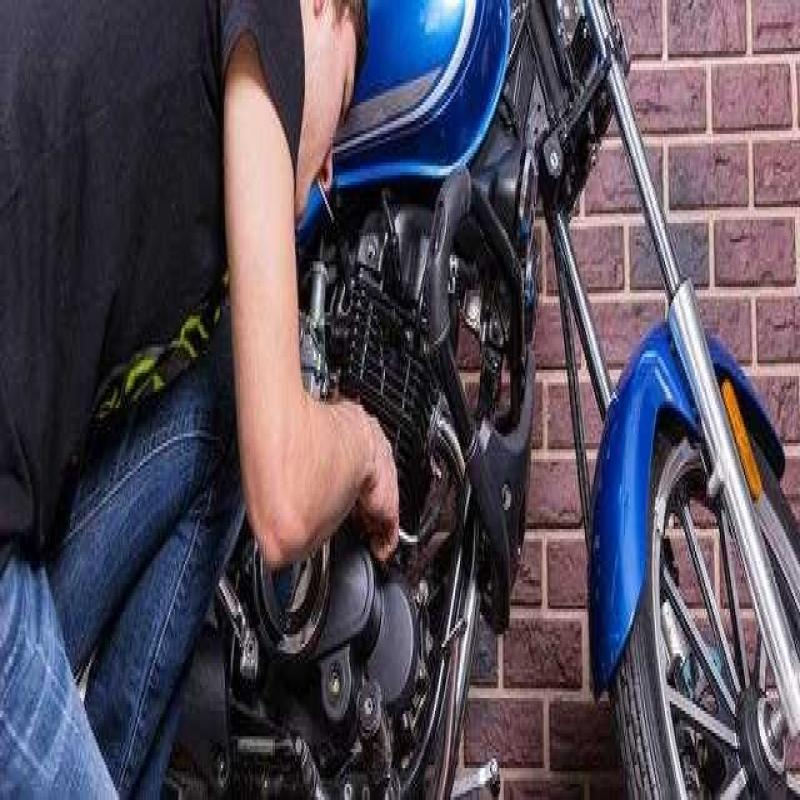bike: (379, 9, 799, 800)
